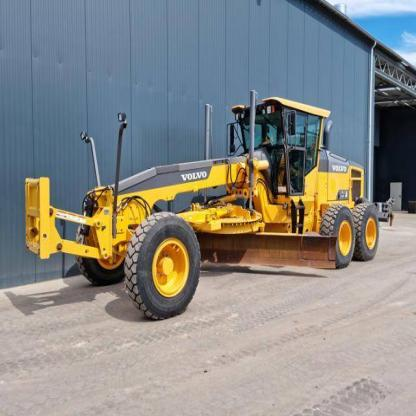bull_dozer/loader/grader: (21, 87, 416, 324)
